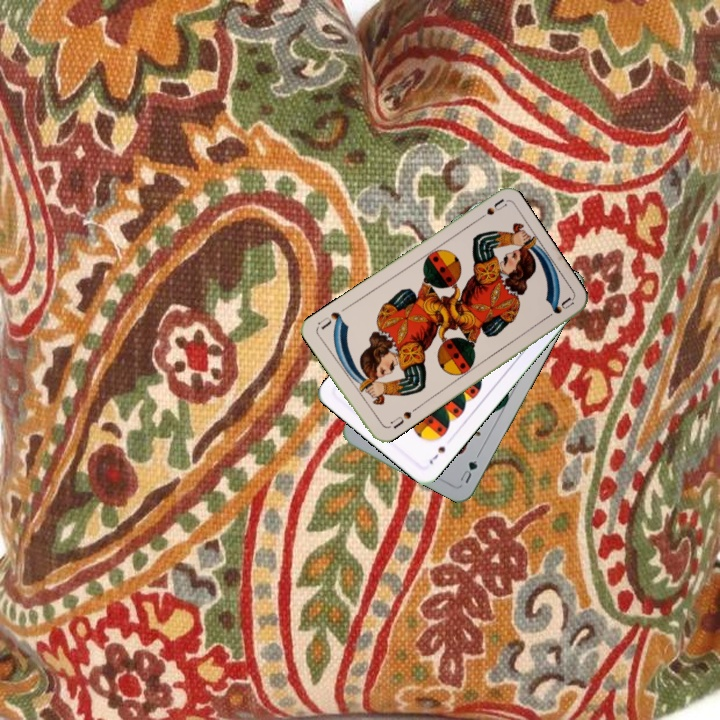GU: (456, 456, 480, 486)
S7: (425, 442, 448, 467)
SU: (471, 195, 508, 225), (386, 407, 414, 432)
